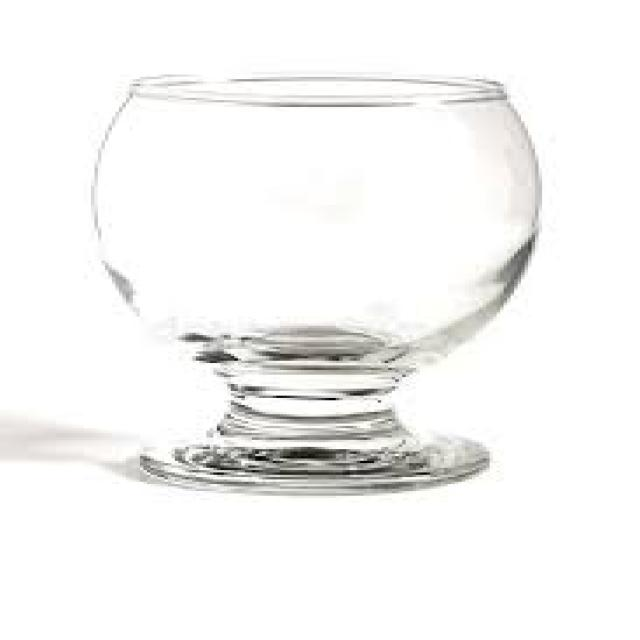glass: (88, 73, 539, 494)
